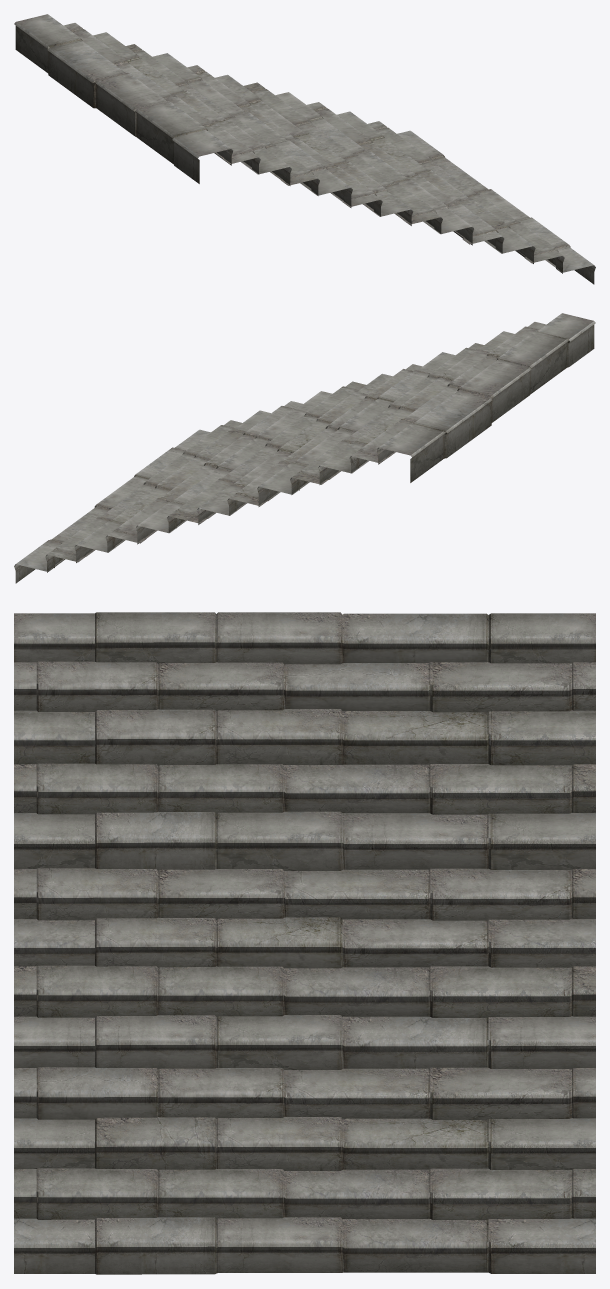
The model's file is bg_lut_lucastle_stair01_sm_lkj.FBX.
3 views of the same model, one above another, from view 1: azimuth 30°, elevation 25°; view 2: azimuth 150°, elevation 25°; view 3: azimuth 270°, elevation 25° (orthographic). The views are drawn at different scales.
Parts seen in each view (by area): view 1: bg_lut_lucastle_stair01_sm_lkj; view 2: bg_lut_lucastle_stair01_sm_lkj; view 3: bg_lut_lucastle_stair01_sm_lkj.
Part boxes in pixels (bbox=[...]): bg_lut_lucastle_stair01_sm_lkj: bbox=[14, 14, 595, 284]; bg_lut_lucastle_stair01_sm_lkj: bbox=[14, 313, 595, 583]; bg_lut_lucastle_stair01_sm_lkj: bbox=[14, 612, 595, 1274].
Size of the model in its own units: 482 by 260 by 384.
